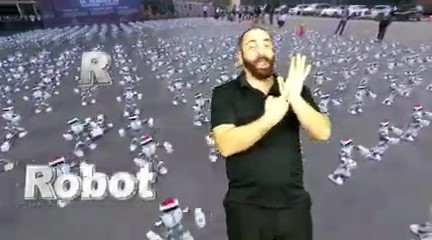R: (262, 50, 312, 122)
